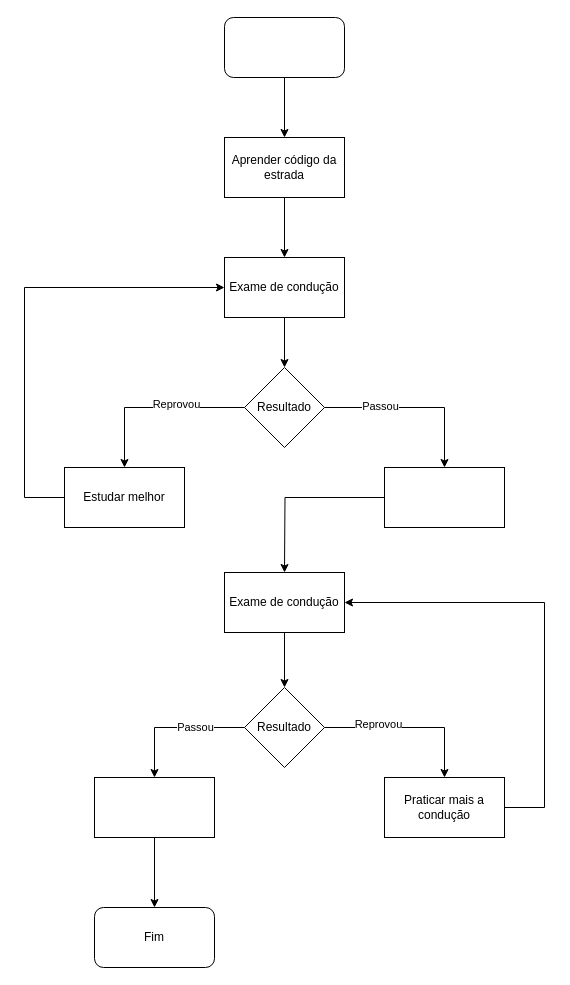
Some shapes in this 570 by 985 pixel diagram are drawn without their labels. Each missing label, with the centre of its shape:
"Aprender a condução" goes at point 444,497.
"Inicio" goes at point 284,47.
"Parabéns tirou a carta de condução" goes at point 154,807.
